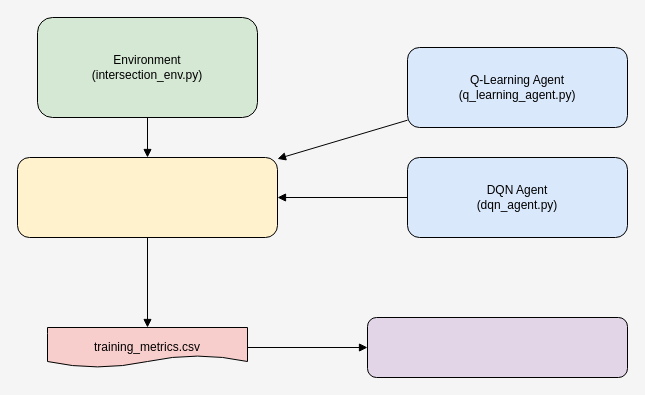
This 645x395 diagram has some shape labels left out. Here are the shapes that lost their labels. From the top down, the centre of each, then its label:
At (x=147, y=197): "Training & Control Loop (main.py)".
At (x=497, y=347): "Plotting Module (plot_metrics.py)".
